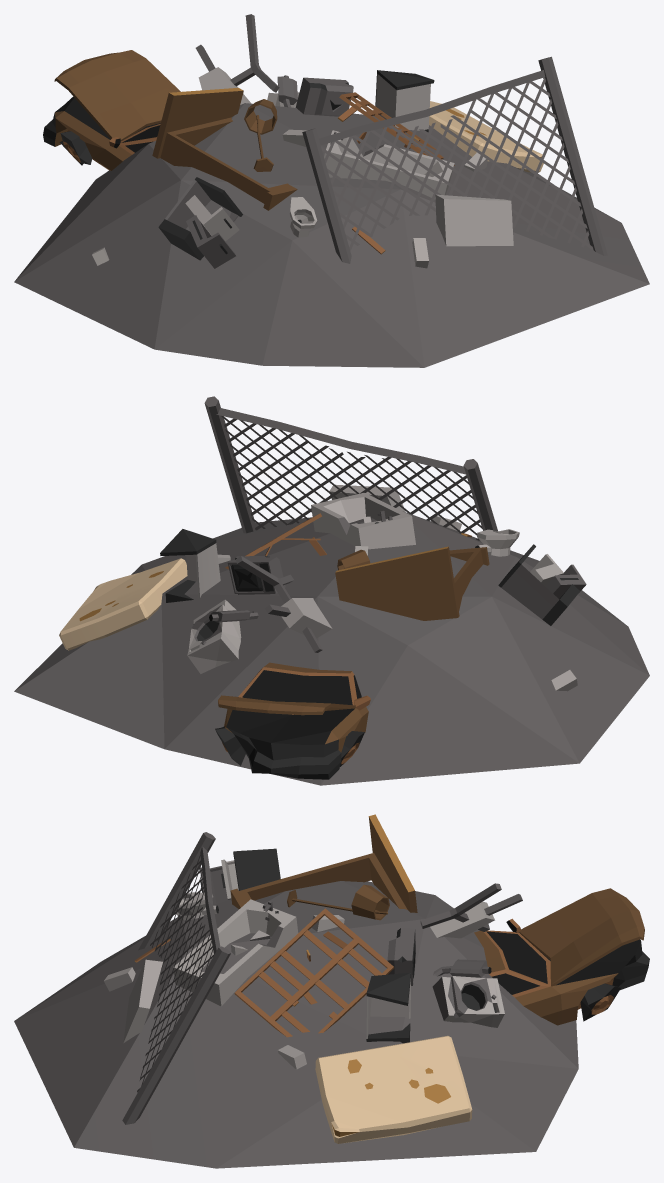
The model's file is apocalypse_rubble-big-apocalypse.fbx.
The picture shows the model from 3 angles, top to bottom: view 1: azimuth 30°, elevation 25°; view 2: azimuth 150°, elevation 25°; view 3: azimuth 270°, elevation 25°; orthographic projection. The views are drawn at different scales.
Parts seen in each view (by area): view 1: apocalypse_rubble_big_apocalypse; view 2: apocalypse_rubble_big_apocalypse; view 3: apocalypse_rubble_big_apocalypse.
Part boxes in pixels (x1,y1,x2,y2): apocalypse_rubble_big_apocalypse: (14,14,649,367); apocalypse_rubble_big_apocalypse: (14,396,649,785); apocalypse_rubble_big_apocalypse: (14,814,649,1168).
Size of the model in its own units: 191 by 64.3 by 200.
